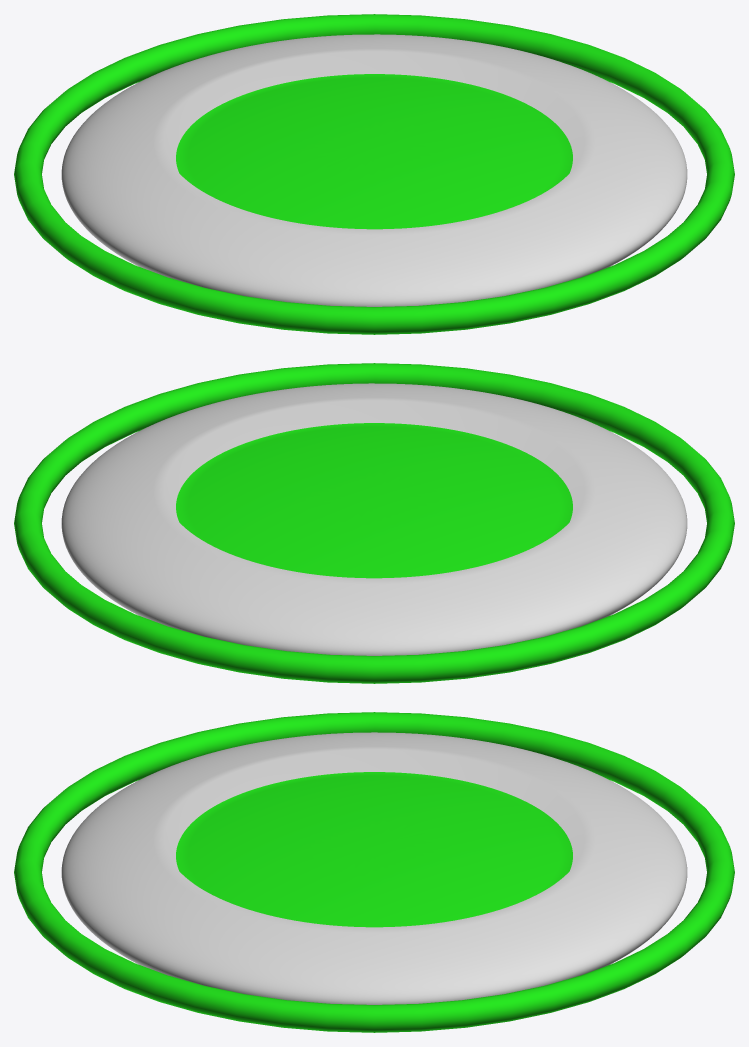
File: Green.gltf
3 views of the same model, one above another, from view 1: azimuth 30°, elevation 25°; view 2: azimuth 150°, elevation 25°; view 3: azimuth 270°, elevation 25° (orthographic).
Parts seen in each view (by area): view 1: Sphere; view 2: Sphere; view 3: Sphere.
Part boxes in pixels (x1=…): Sphere: x1=14, y1=14, x2=734, y2=334; Sphere: x1=14, y1=363, x2=734, y2=683; Sphere: x1=14, y1=712, x2=734, y2=1032.
Bounding box in the file's own units: 6.2 × 0.7614 × 6.2.
